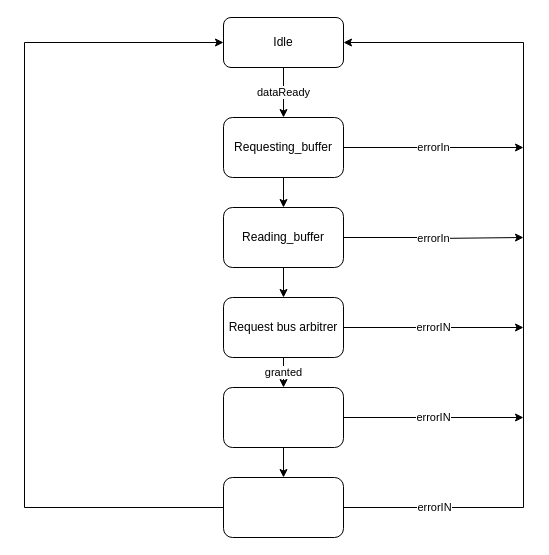
Some shapes in this 549 by 555 pixel diagram are drawn without their labels. The shapes that lost their labels are listed below. From the top down, each one's centre as x and y in pixels, then its label:
the point at 283,417: send handshake
the point at 283,507: send data
